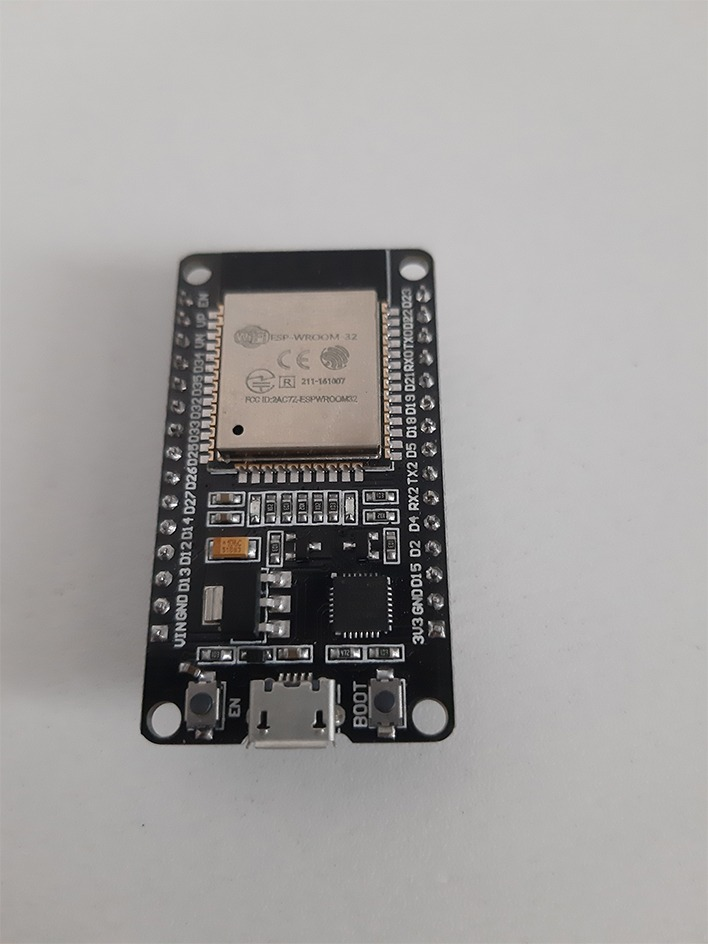ESP32-WROOM: (128, 227, 483, 791)
